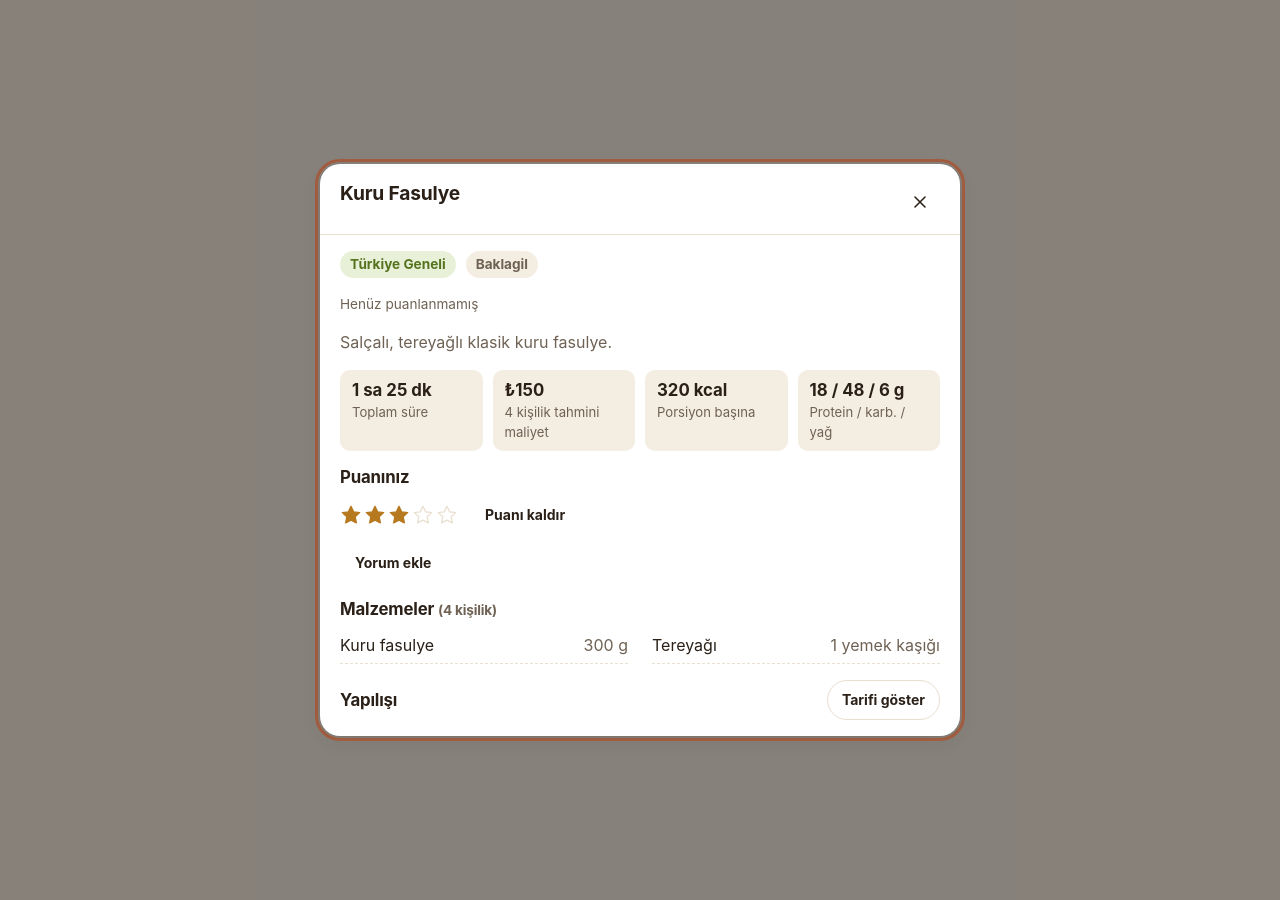
DishDetail › puanlama › yorum ekleyip kaydedebilir
Click the button "Yorum ekle" at (393, 563), box [340, 543, 446, 583]
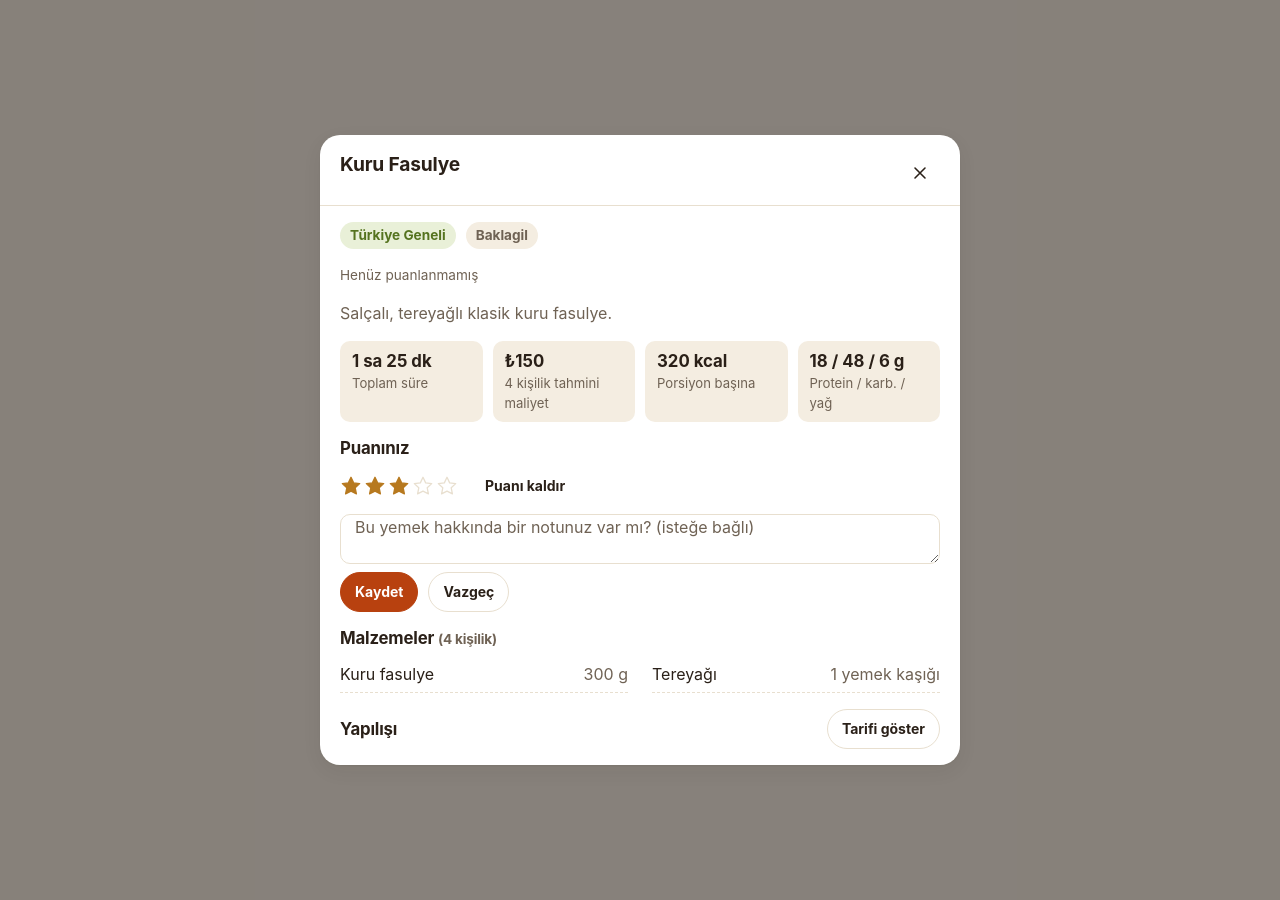
Type "Biraz tuzsuz oldu" into the text box named "Yorumunuz" at (640, 539), box [340, 514, 940, 564]
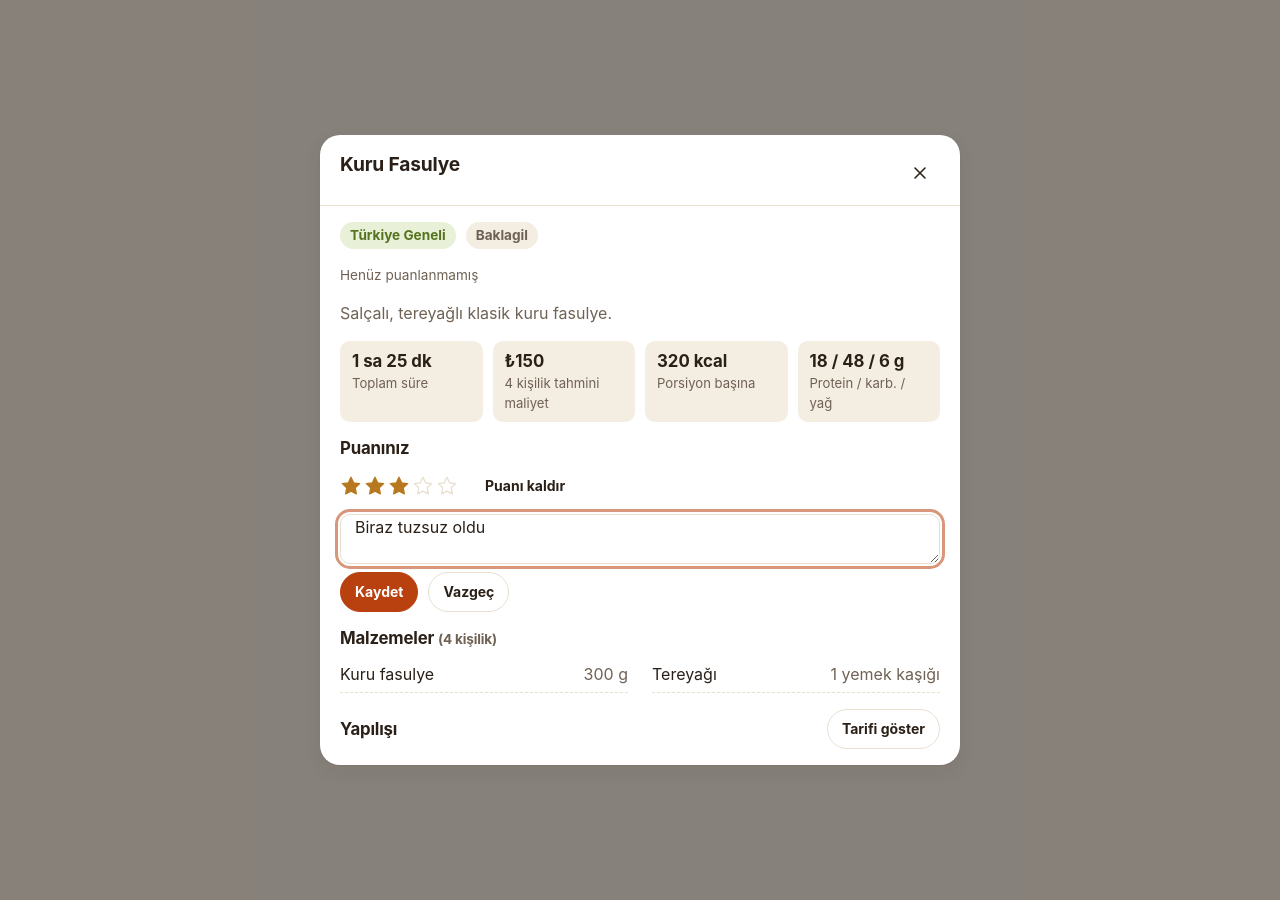
Click the button "Kaydet" at (379, 592), box [340, 572, 418, 612]
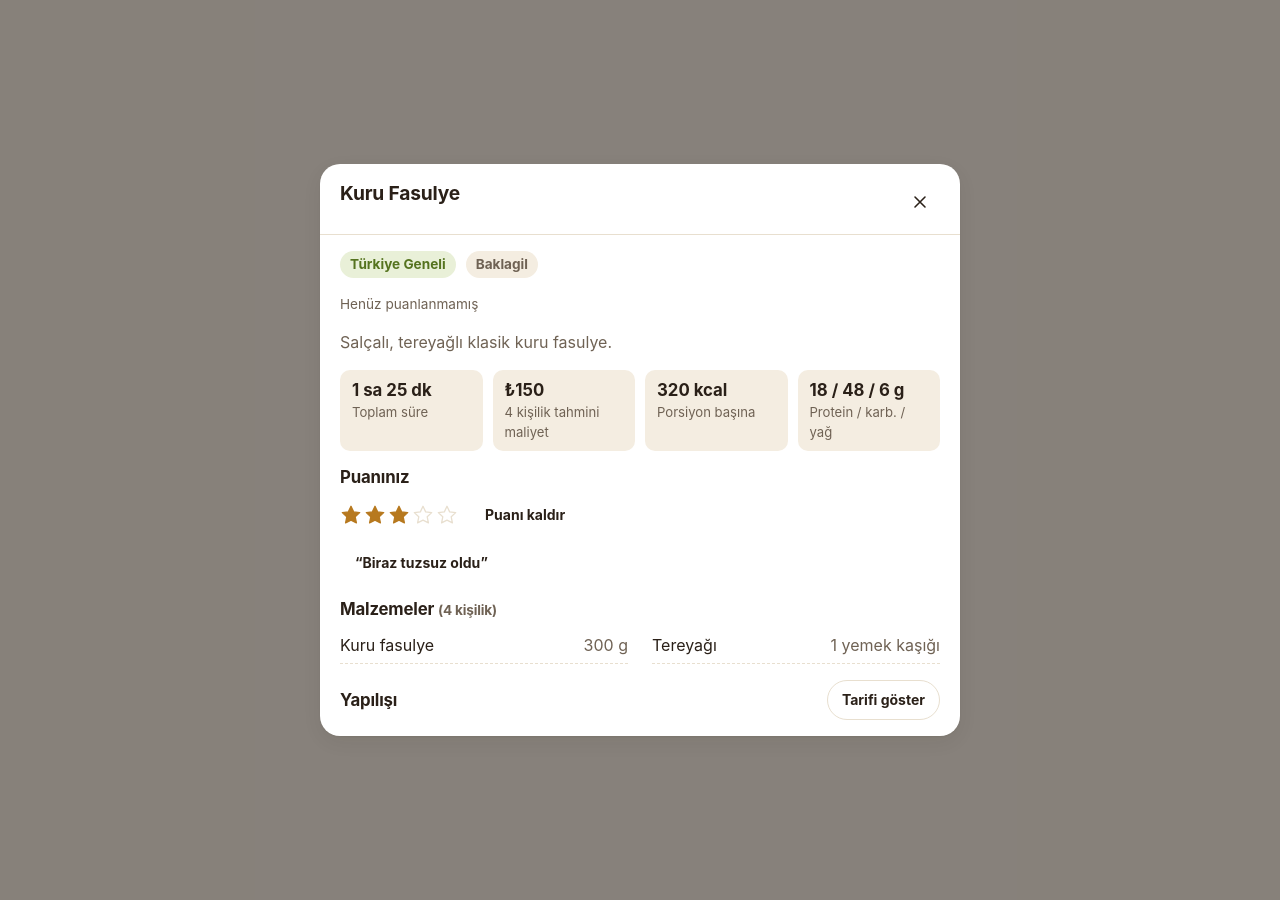
Expected: the button "“Biraz tuzsuz oldu”" is shown, [340, 543, 503, 583]
